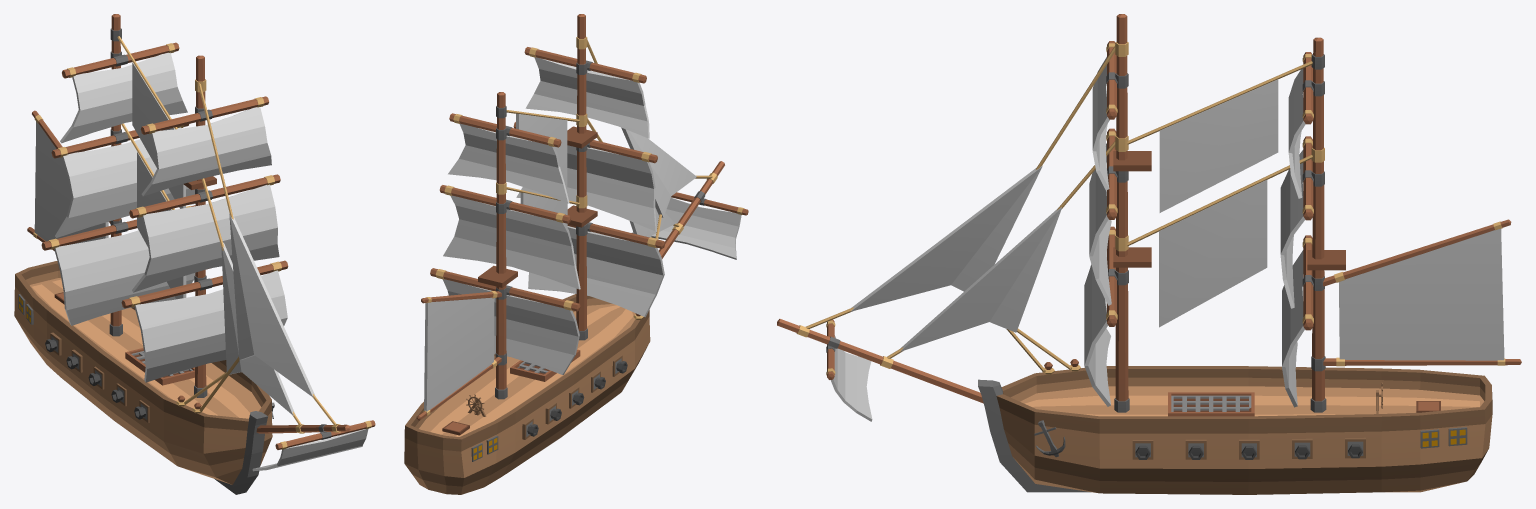
Rendered from brigantine.glb.
The picture shows the model from 3 angles, left to right: view 1: azimuth 30°, elevation 25°; view 2: azimuth 150°, elevation 25°; view 3: azimuth 270°, elevation 25°; orthographic projection. The views are drawn at different scales.
Visible parts, largest first — view 1: ship large 4; view 2: ship large 4; view 3: ship large 4.
Boxes of the visible parts, x1,y1,x2,y2 form: ship large 4: [14, 14, 375, 494]; ship large 4: [404, 14, 748, 494]; ship large 4: [777, 14, 1521, 494].
Bounding box in the file's own units: 12.81 × 30.46 × 43.25.
Materials: 1 (1 with a texture image).
